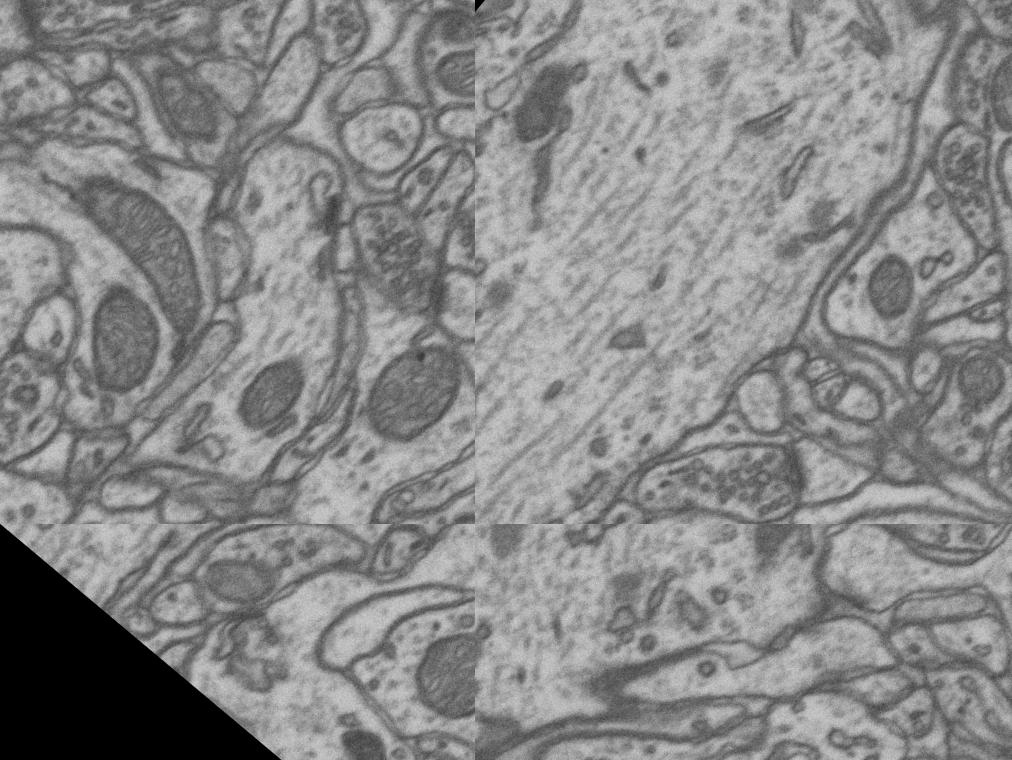mitochondria: (41, 148, 245, 340), (343, 323, 475, 465), (50, 268, 185, 404), (832, 222, 948, 340), (385, 606, 475, 754), (123, 45, 240, 158), (170, 530, 280, 638), (219, 350, 319, 453), (475, 205, 516, 441), (948, 19, 1012, 161), (929, 332, 1012, 429), (418, 15, 475, 127), (714, 524, 835, 576)
